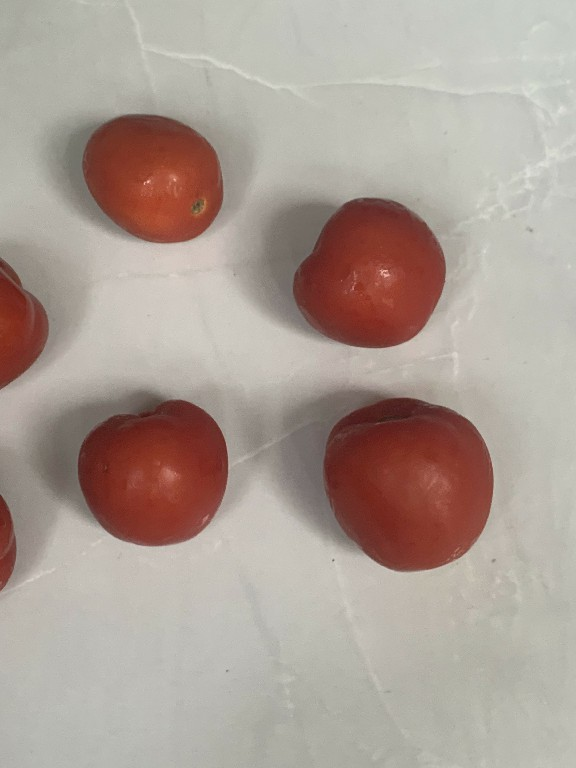OK: (323, 394, 496, 579), (286, 192, 459, 364), (65, 395, 240, 552), (74, 111, 225, 252)
